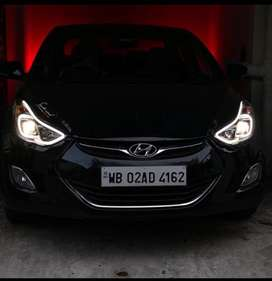WB02AD4162: (101, 165, 187, 186)
